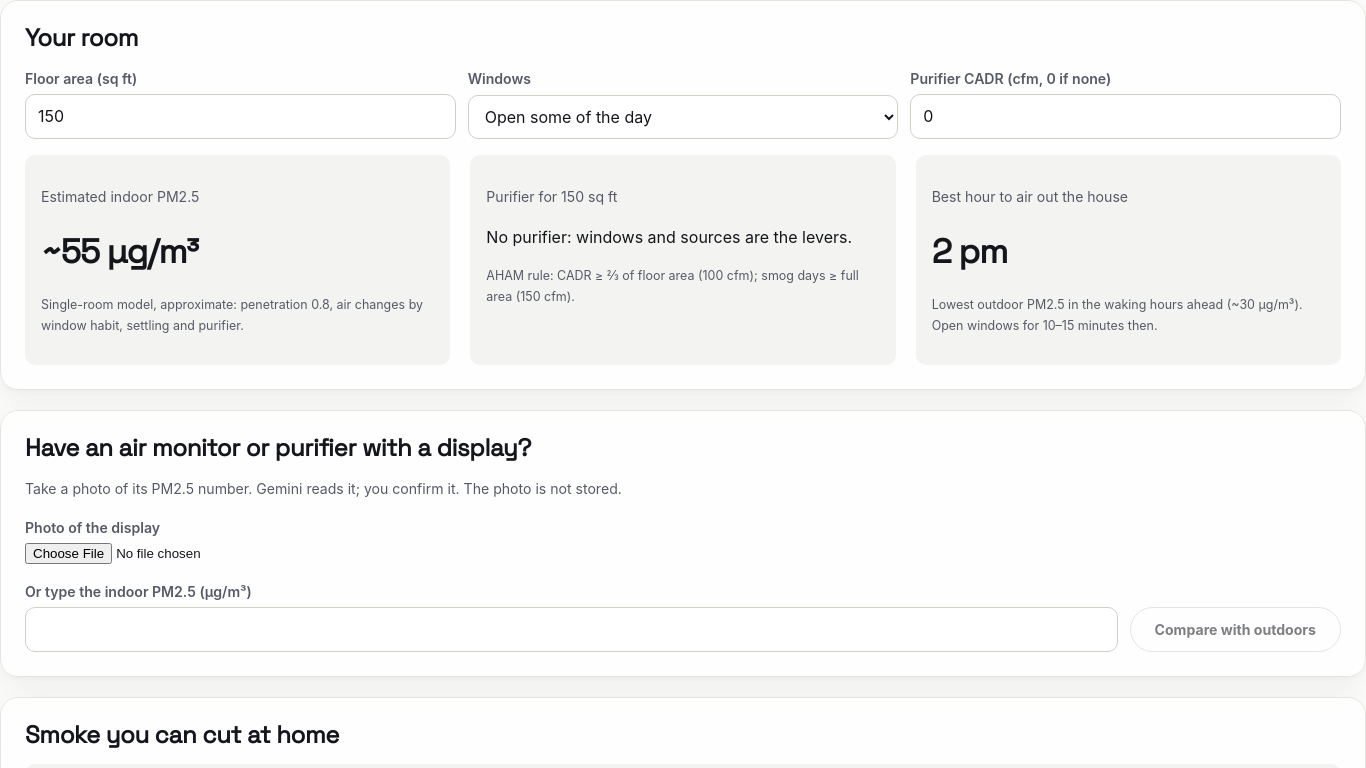
Test: HomeView › reads a typed indoor value of 100
The image size is (1366, 768).
Type "100" into the number field labelled "Or type the indoor PM2.5 (µg/m³)" at (571, 630), box [25,608,1118,652]
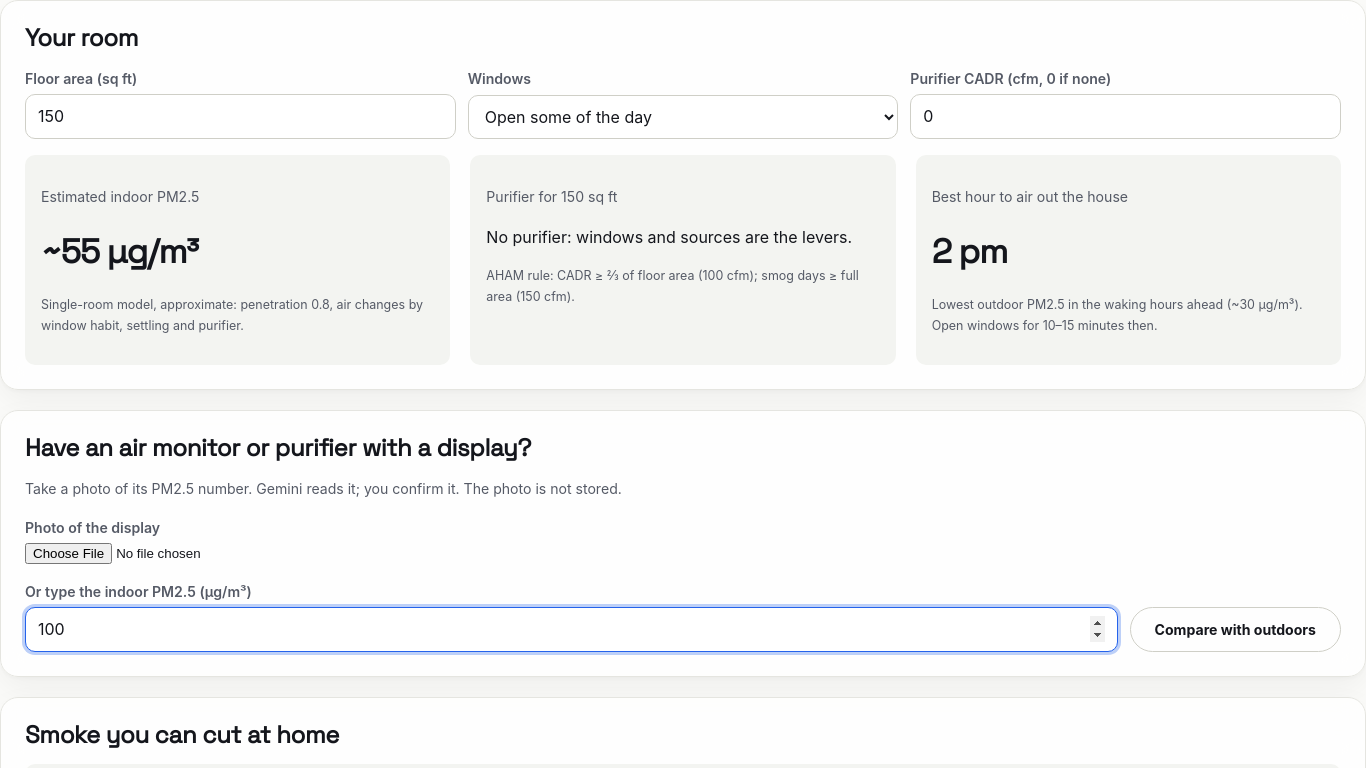
Click the button "Compare with outdoors" at (1235, 630), box [1130,607,1341,652]
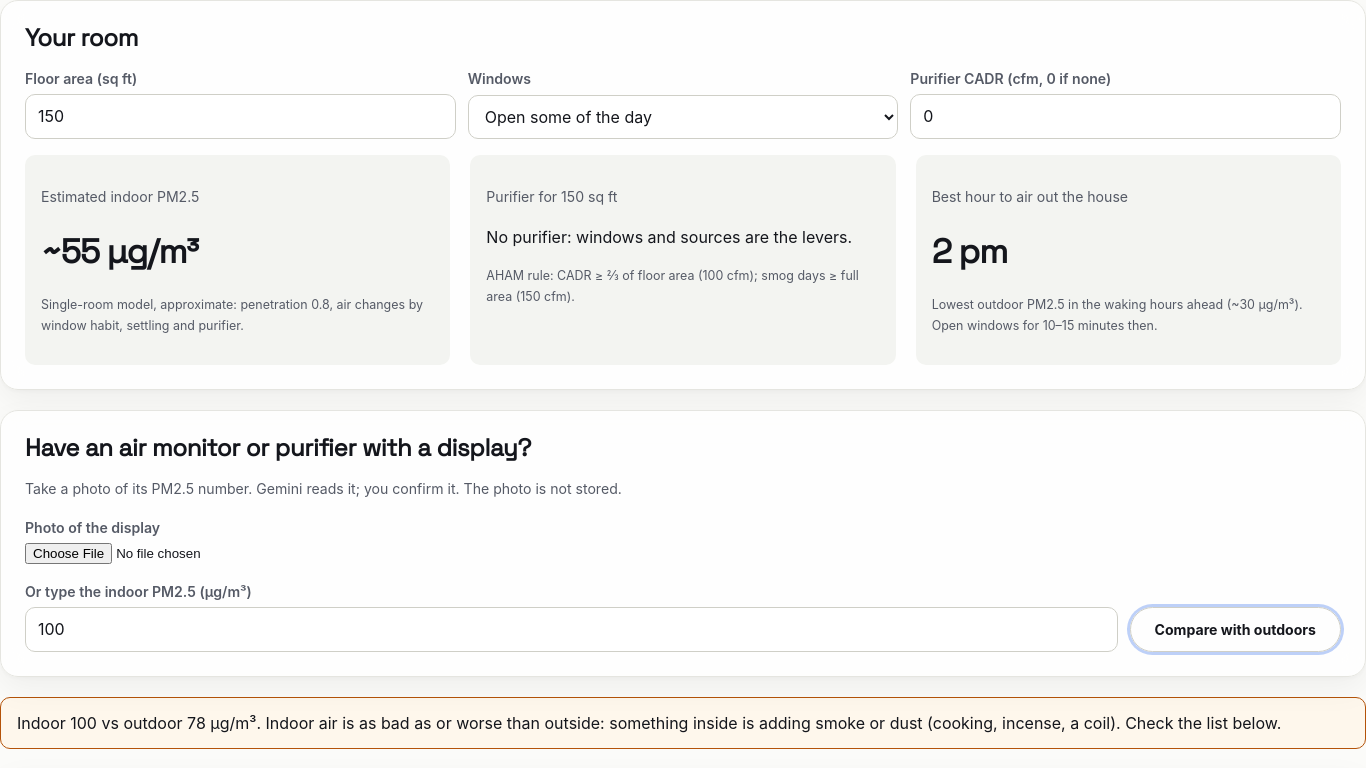
Expected: the message shows "as bad as or worse than outside", [266,713,1281,733]
